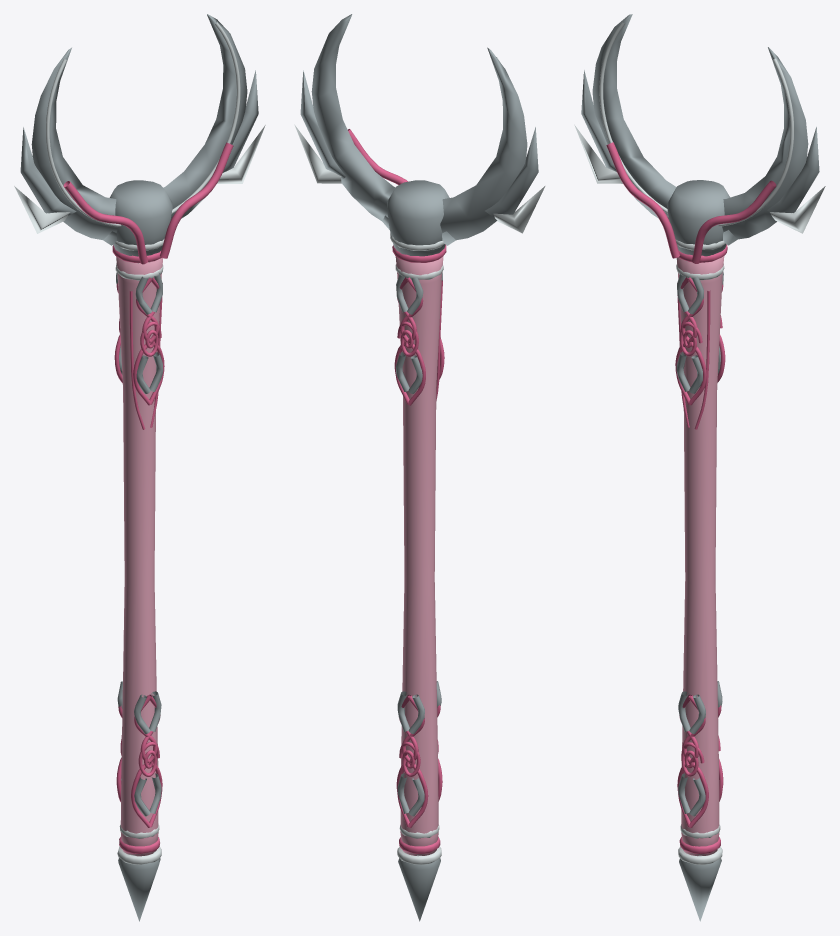
Rendered from sceptre_lotus.glb.
The picture shows the model from 3 angles, left to right: view 1: azimuth 30°, elevation 25°; view 2: azimuth 150°, elevation 25°; view 3: azimuth 330°, elevation 25°; orthographic projection.
Parts seen in each view (by area): view 1: Manche ivoire allongé, Col du croissant, Arabesque en or, Bague ciselée, Incrustation argent, Nervure du croissant, Bague ciselée.001; view 2: Col du croissant, Manche ivoire allongé, Arabesque en or, Bague ciselée, Incrustation argent, Bague ciselée.001; view 3: Manche ivoire allongé, Col du croissant, Arabesque en or, Bague ciselée, Incrustation argent, Nervure du croissant, Bague ciselée.001.
Part boxes in pixels (x1,y1,x2,y2): Manche ivoire allongé: [116, 256, 163, 856]; Col du croissant: [20, 14, 258, 921]; Arabesque en or: [63, 142, 233, 827]; Bague ciselée: [14, 125, 265, 864]; Incrustation argent: [116, 272, 163, 816]; Nervure du croissant: [46, 21, 240, 226]; Bague ciselée.001: [112, 245, 161, 854]; Col du croissant: [300, 14, 538, 921]; Manche ivoire allongé: [395, 256, 443, 855]; Arabesque en or: [348, 129, 444, 827]; Bague ciselée: [294, 124, 545, 864]; Incrustation argent: [395, 272, 442, 816]; Bague ciselée.001: [392, 244, 446, 853]; Manche ivoire allongé: [676, 256, 724, 856]; Col du croissant: [581, 14, 819, 921]; Arabesque en or: [606, 142, 776, 827]; Bague ciselée: [574, 124, 825, 864]; Incrustation argent: [676, 271, 723, 816]; Nervure du croissant: [599, 21, 793, 226]; Bague ciselée.001: [678, 244, 727, 853].
Bounding box in the file's own units: 1.82 × 6.16 × 0.4363.
